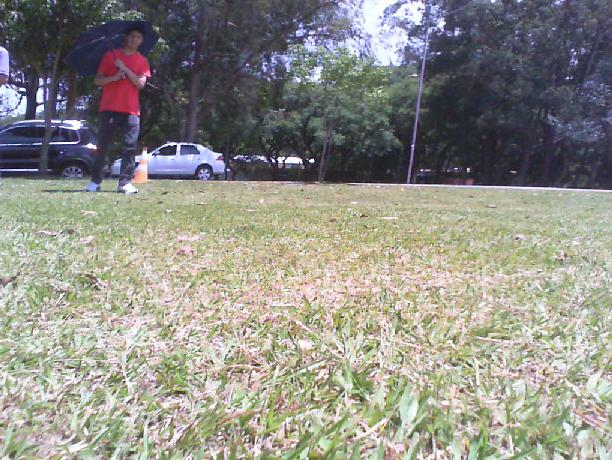0 cone: (130, 146, 150, 183)
